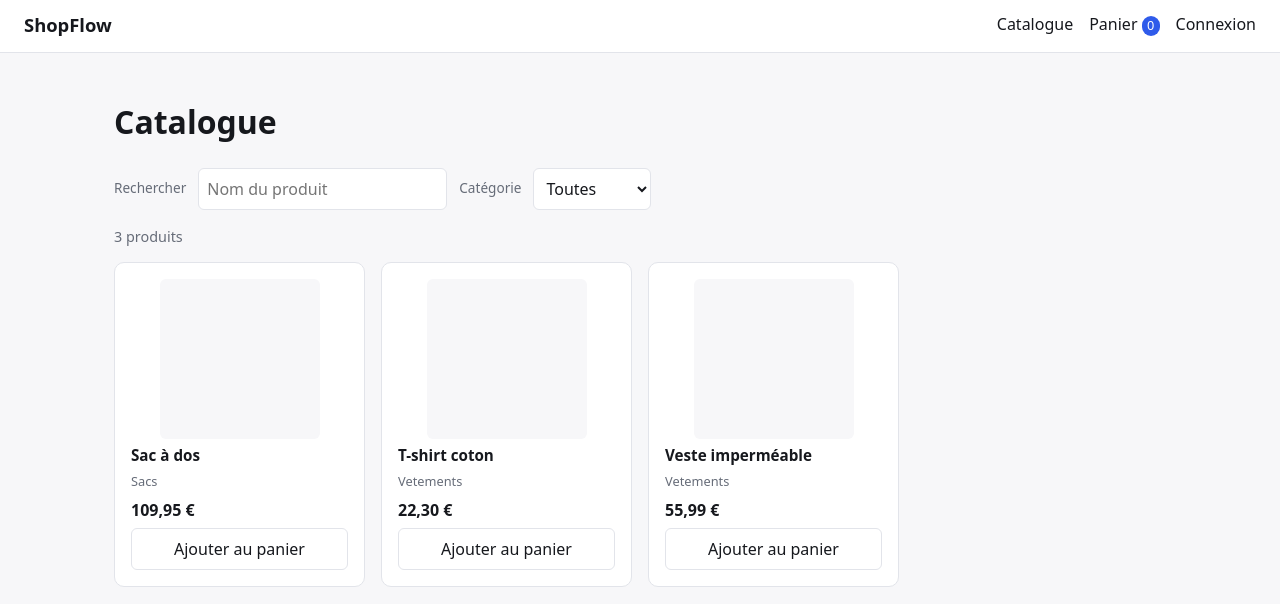
Test: CatalogPage › filtre par catégorie
Expected: the element with test id "product-1" is shown, x1=114 y1=262 x2=365 y2=587
Step 1. Select "vetements" in the dropdown labelled "Catégorie" → (592, 189), box x1=533 y1=168 x2=651 y2=210
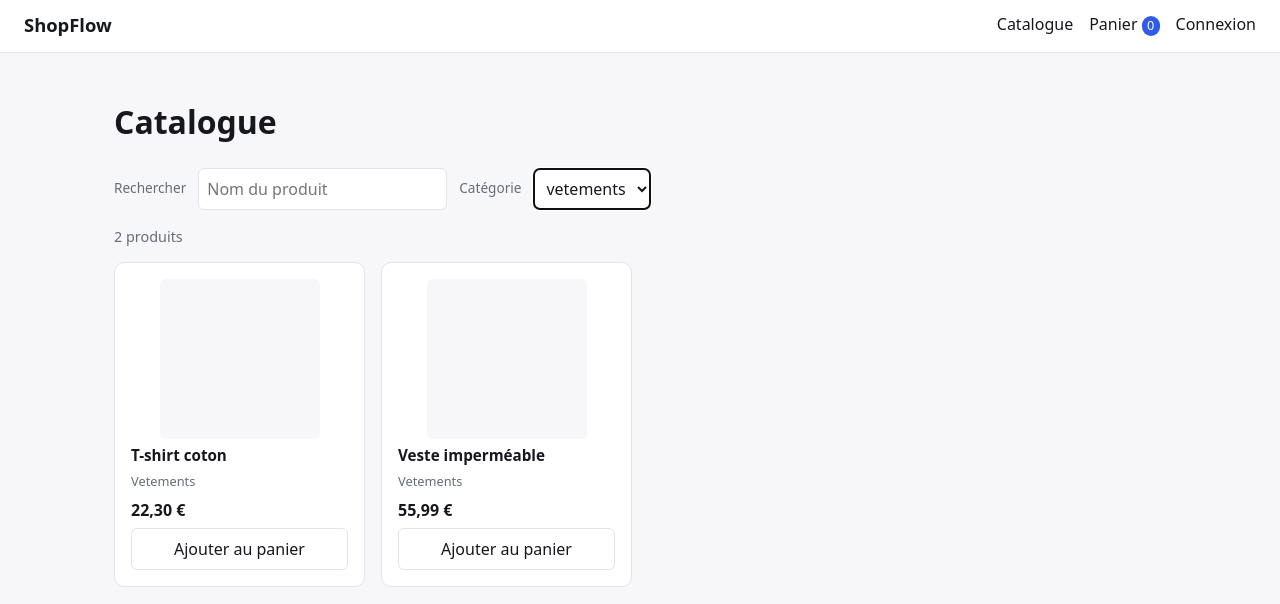
Expected: the text with test id "result-count" reads "2 produits", x1=114 y1=227 x2=183 y2=246
Expected: the element with test id "product-1" is gone
